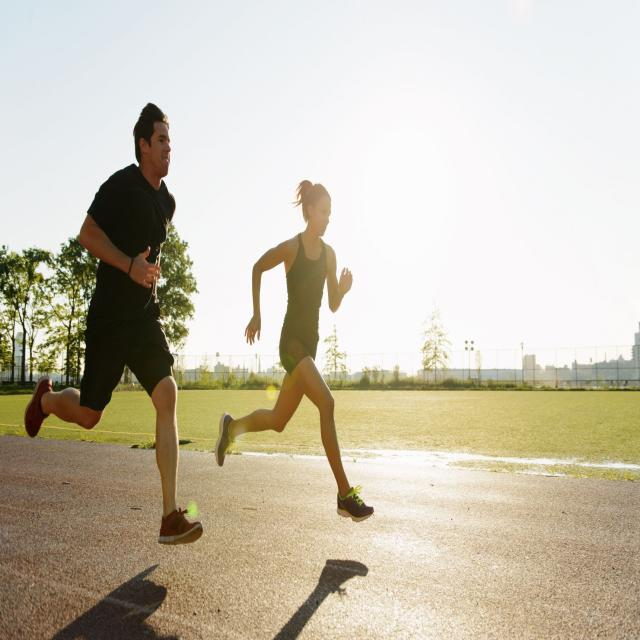Person: (26, 100, 203, 548), (215, 178, 373, 521)
